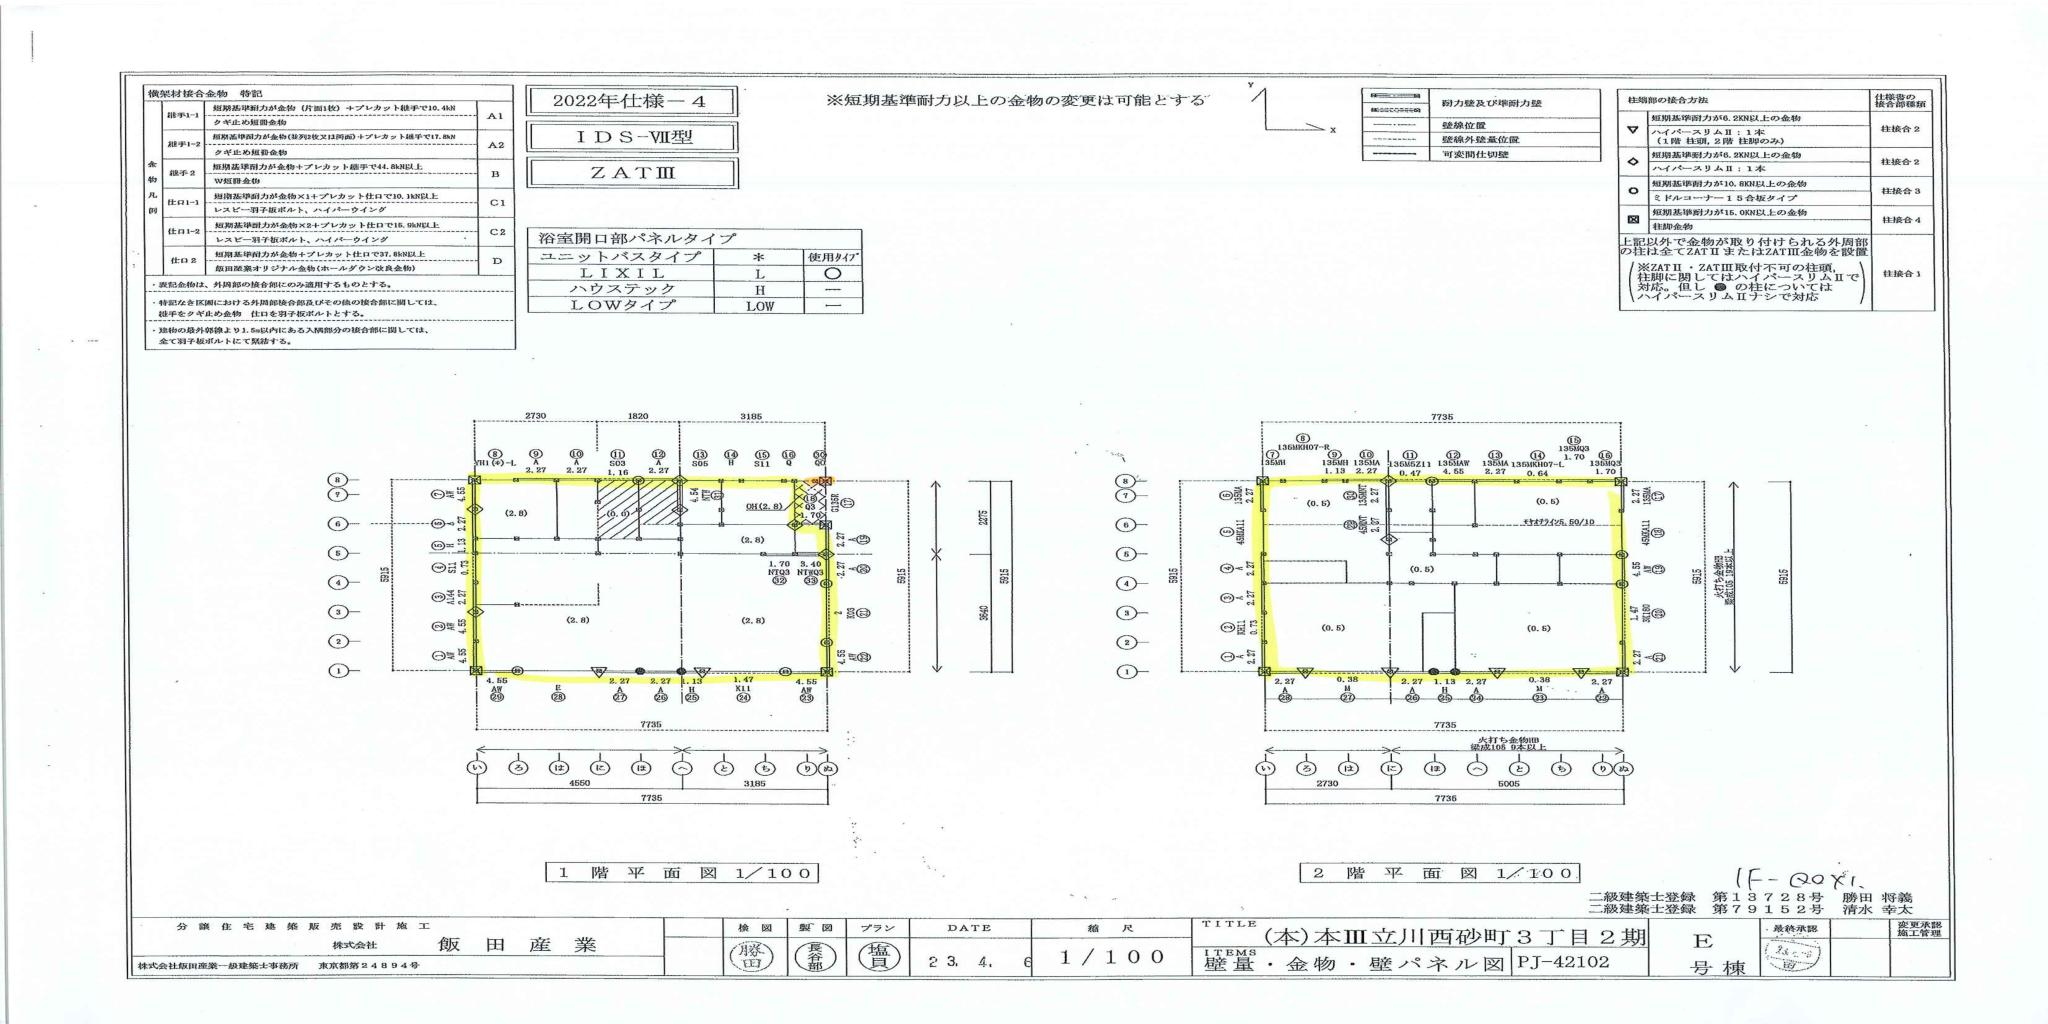CAD: (1216, 432, 1670, 706), (424, 446, 876, 708)
